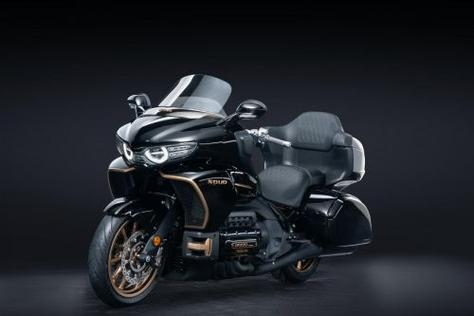摩托车: (80, 70, 377, 311)
